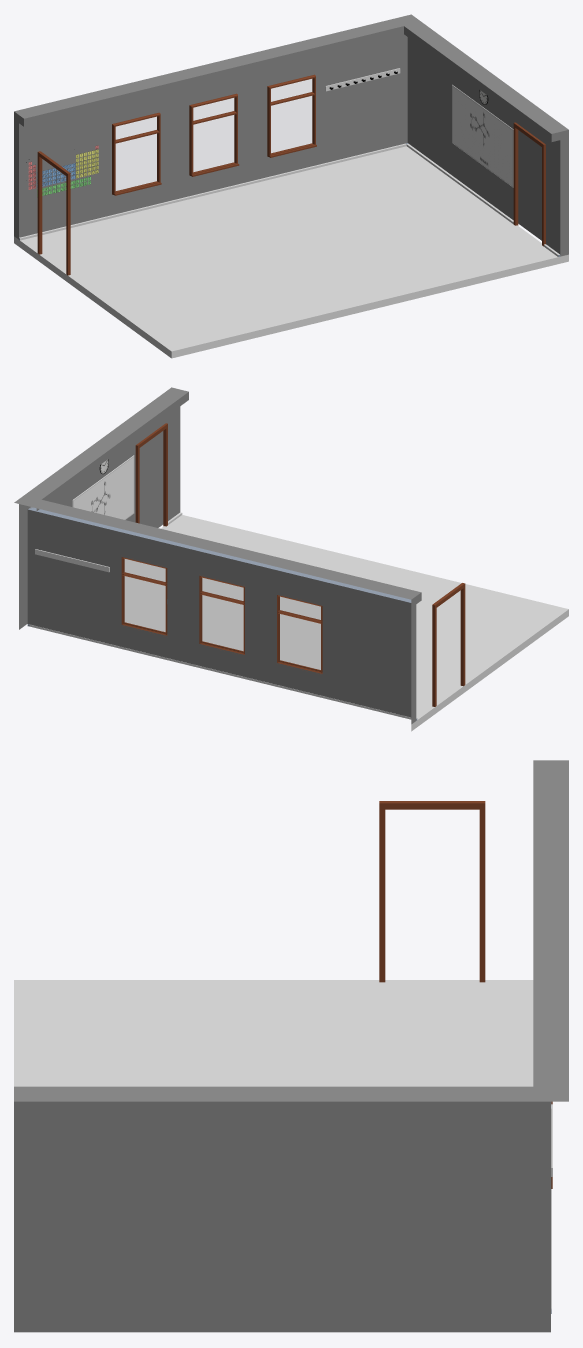
The model's file is Room_Aula4.fbx.
The picture shows the model from 3 angles, top to bottom: view 1: azimuth 30°, elevation 25°; view 2: azimuth 150°, elevation 25°; view 3: azimuth 270°, elevation 25°; orthographic projection. The views are drawn at different scales.
Visible parts, largest first — view 1: Laboratorio4_Base; view 2: Laboratorio4_Base; view 3: Laboratorio4_Base.
Part boxes in pixels (x1,y1,x2,y2): Laboratorio4_Base: (14, 14, 568, 358); Laboratorio4_Base: (14, 387, 568, 731); Laboratorio4_Base: (14, 760, 568, 1332).
Size of the model in its own units: 4545 by 1440 by 3121.
Materials: 11 (3 with a texture image).
